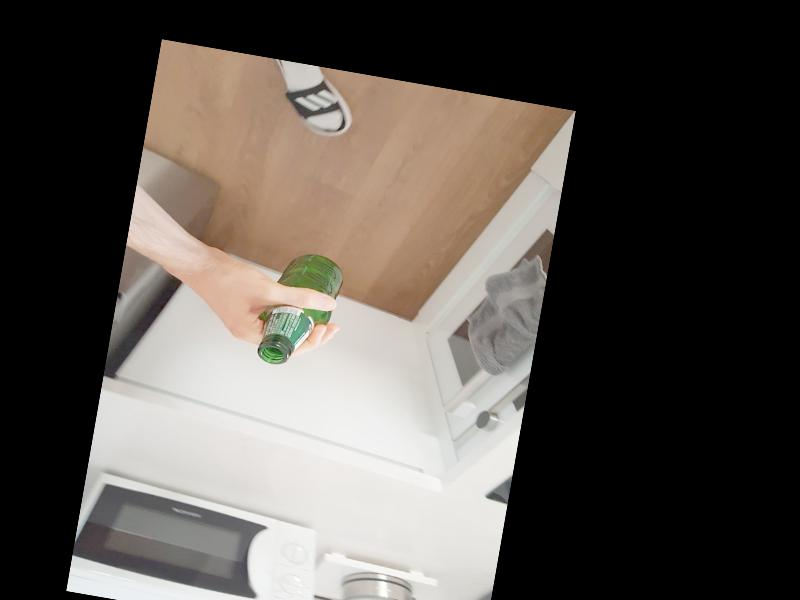Beer: (255, 247, 346, 371)
